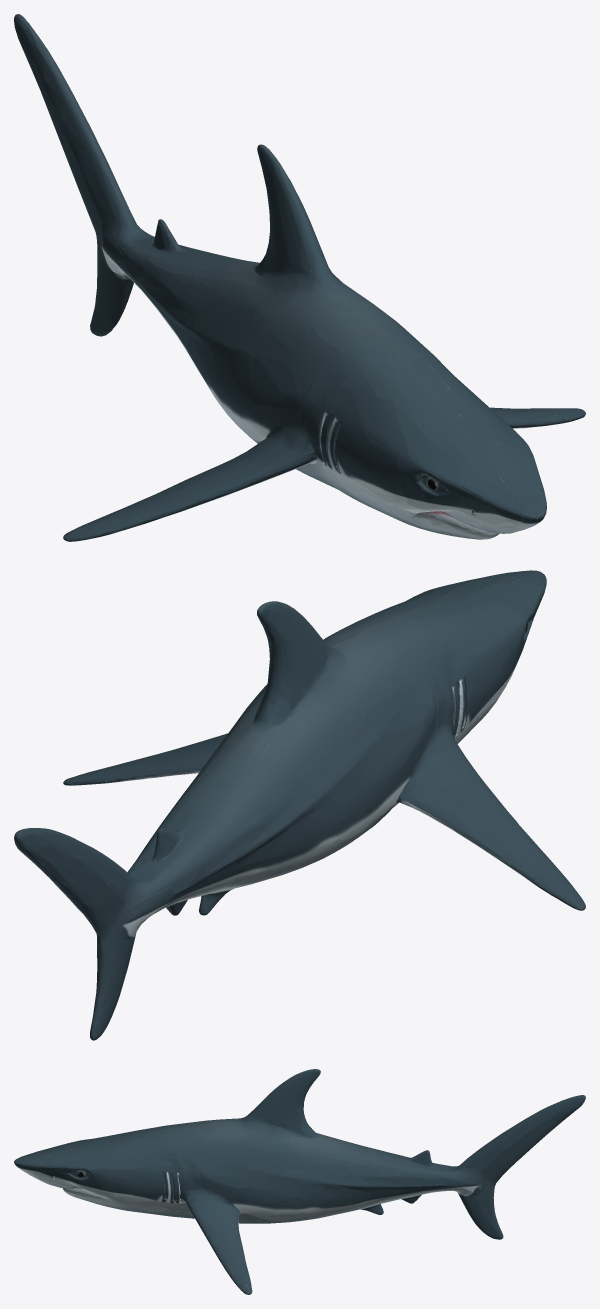
3 views of the same model, one above another, from view 1: azimuth 30°, elevation 25°; view 2: azimuth 150°, elevation 25°; view 3: azimuth 270°, elevation 25° (orthographic). The views are drawn at different scales.
Size of the model in its own units: 1.09 by 0.6244 by 1.9.
1 material, 1 textured.
